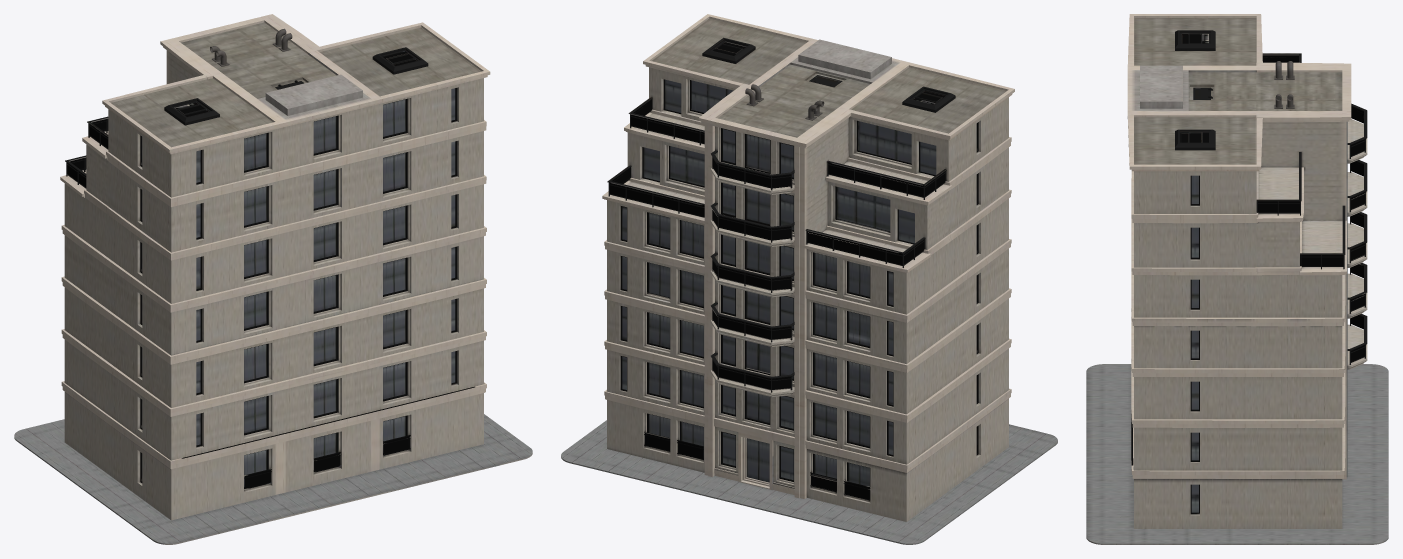
File: bld22_11.glb
The picture shows the model from 3 angles, left to right: view 1: azimuth 30°, elevation 25°; view 2: azimuth 150°, elevation 25°; view 3: azimuth 270°, elevation 25°; orthographic projection. The views are drawn at different scales.
Visible parts, largest first — view 1: bld22_11; view 2: bld22_11; view 3: bld22_11.
Boxes of the visible parts, x1,y1,x2,y2 form: bld22_11: (14,14,532,544); bld22_11: (561,14,1057,544); bld22_11: (1086,14,1388,544).
Size of the model in its own units: 50.04 by 49.05 by 35.61.
Materials: 1 (1 with a texture image).
